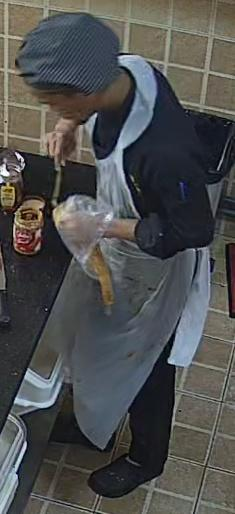apron: (9, 0, 166, 327)
